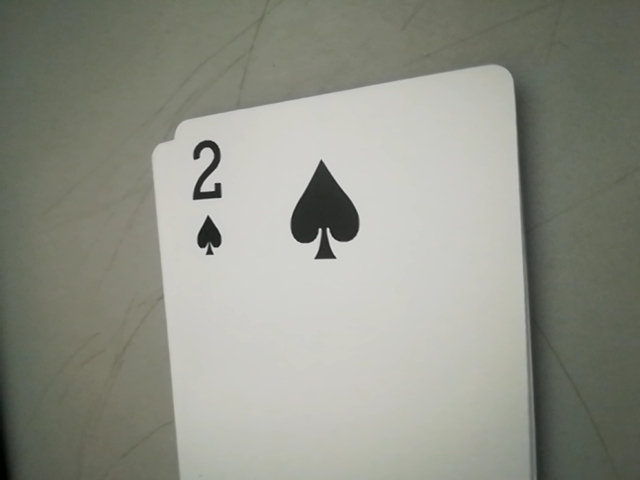ht 2: (174, 127, 251, 267)
